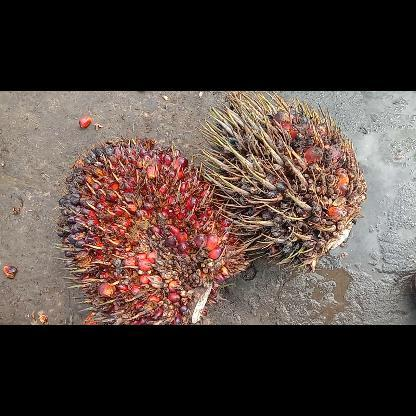TBS abnormal: (198, 91, 368, 269)
TBS masak: (58, 136, 250, 324)
